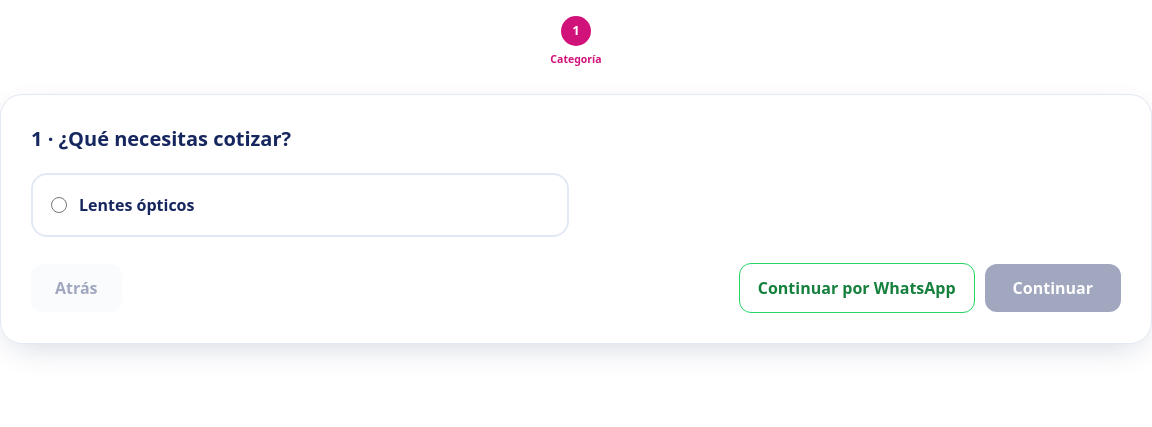
components/quote/QuoteWizard › selecting a category advances to the offering step (catalog vs. advice)
This screenshot has width=1152, height=427.
What coordinates should you click on to do the following:
click the radio button labelled "Lentes ópticos"
I would click on:
 (59, 205)
Its box is [51,197,67,213].
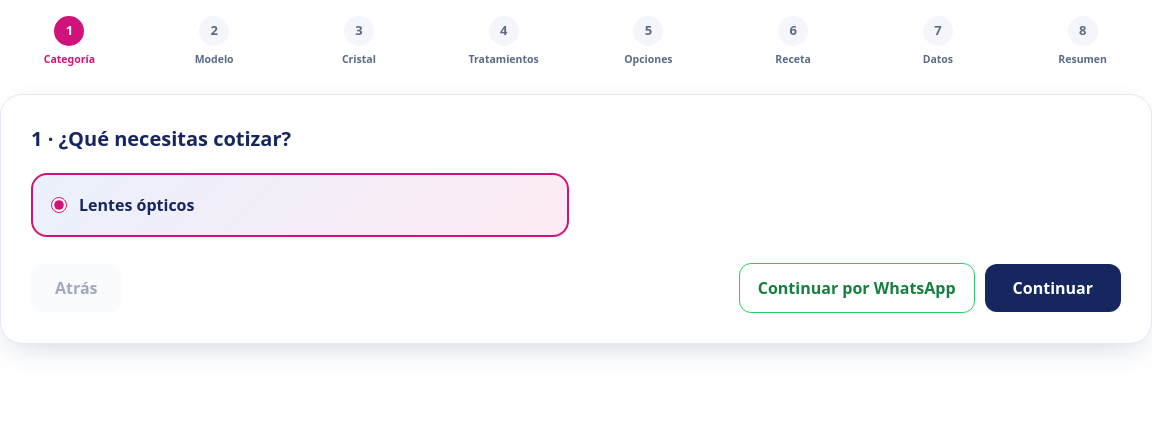
What coordinates should you click on to do the following:
click the button "Continuar"
I would click on:
 (1053, 288)
Its box is [985,264,1121,312].
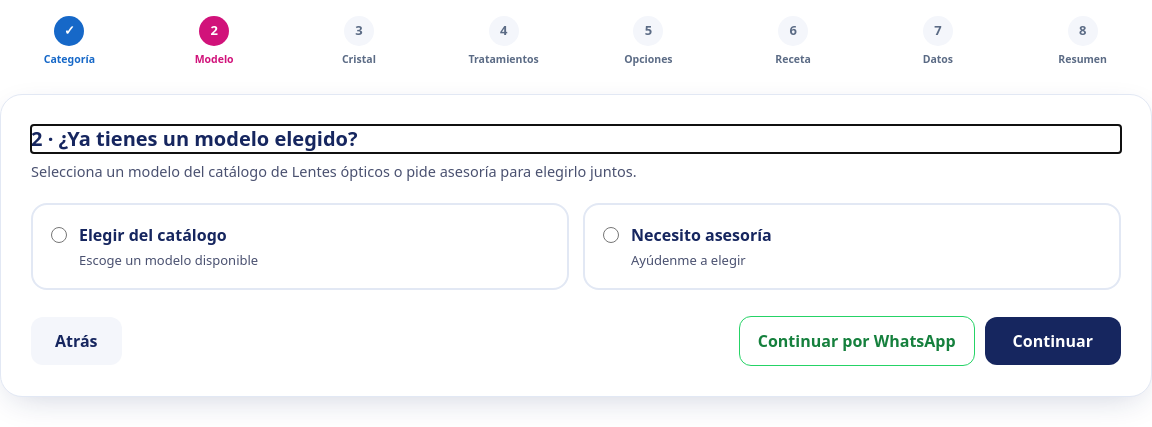
Check: the heading "2 · ¿Ya tienes un modelo elegido?" is shown, box [31,125,358,152]
Check: the radio button labelled "Elegir del catálogo" is shown, box [51,226,67,242]
Check: the radio button labelled "Necesito asesoría" is shown, box [603,226,619,242]
